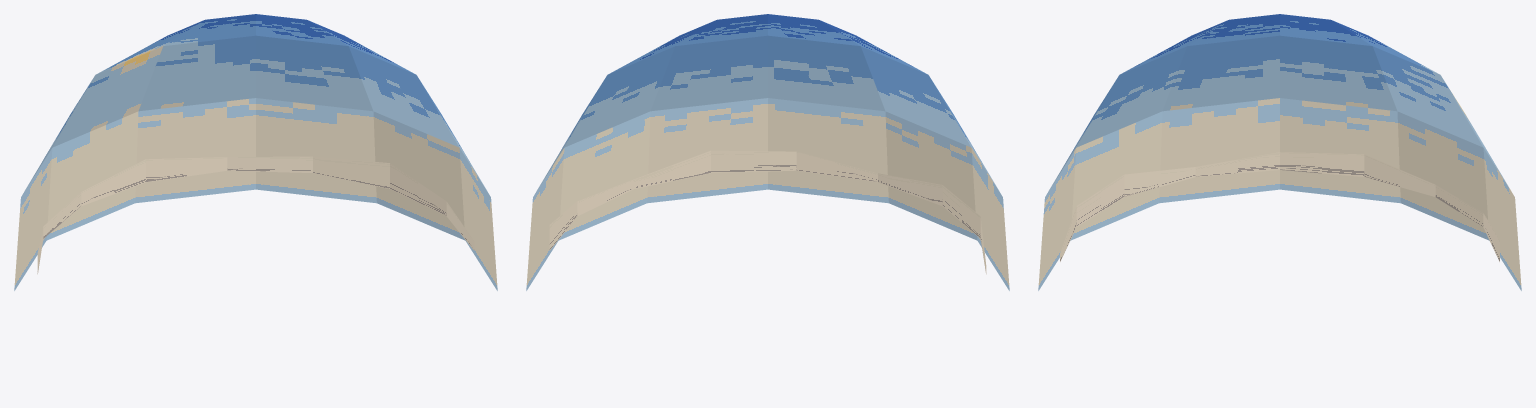
File: land.sky__canopy.glb
The picture shows the model from 3 angles, left to right: view 1: azimuth 30°, elevation 25°; view 2: azimuth 150°, elevation 25°; view 3: azimuth 270°, elevation 25°; orthographic projection.
Visible parts, largest first — view 1: kit_shell_sky, kit_shell_horizon; view 2: kit_shell_sky, kit_shell_horizon; view 3: kit_shell_sky, kit_shell_horizon.
Part boxes in pixels (box(x1,y1,x2,y2)): kit_shell_sky: box(14, 14, 497, 290); kit_shell_horizon: box(37, 156, 474, 274); kit_shell_sky: box(526, 14, 1009, 290); kit_shell_horizon: box(549, 150, 986, 274); kit_shell_sky: box(1038, 14, 1521, 290); kit_shell_horizon: box(1060, 152, 1499, 261).
Bounding box in the file's own units: 791 × 460 × 791.
2 materials, 2 textured.
